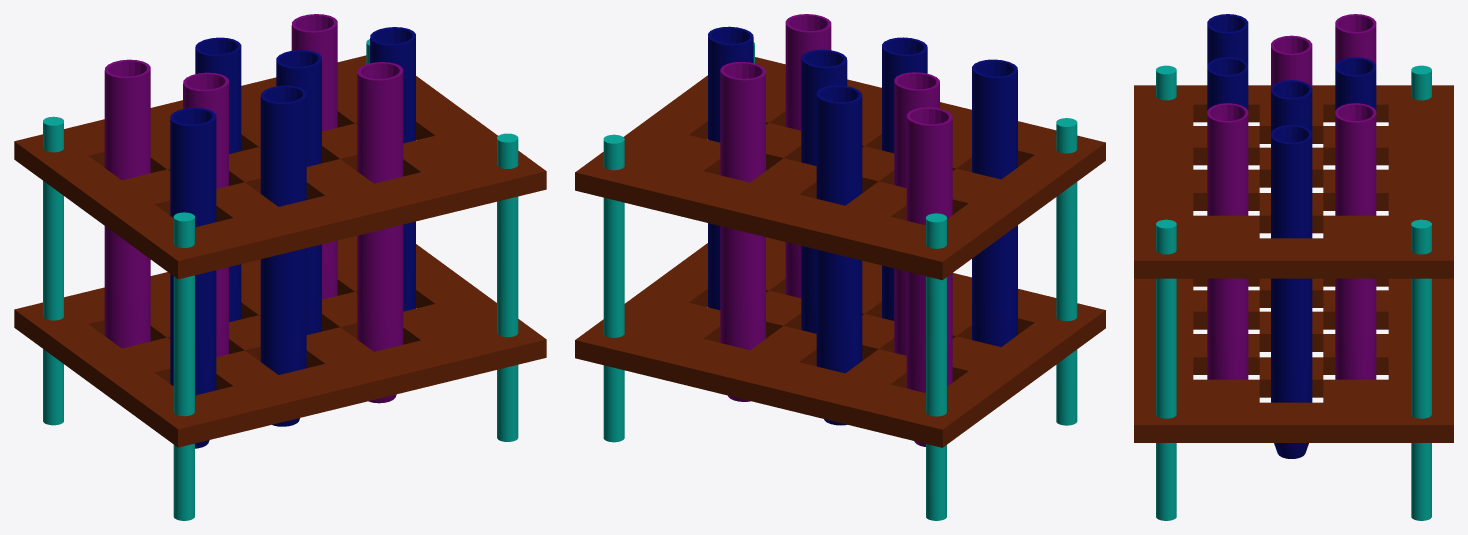
The model's file is pocions.FBX.
3 views of the same model, side by side, from view 1: azimuth 30°, elevation 25°; view 2: azimuth 150°, elevation 25°; view 3: azimuth 270°, elevation 25° (orthographic). The views are drawn at different scales.
Parts seen in each view (by area): view 1: Box010, Cylinder009, Cylinder011, Cylinder018; view 2: Box010, Cylinder009, Cylinder011, Cylinder018; view 3: Box010, Cylinder011, Cylinder009, Cylinder018.
Part boxes in pixels (<box>): Box010: <box>14,55,546,447</box>; Cylinder009: <box>170,27,415,448</box>; Cylinder011: <box>104,14,403,403</box>; Cylinder018: <box>43,39,518,520</box>; Box010: <box>575,57,1105,447</box>; Cylinder009: <box>708,26,1017,425</box>; Cylinder011: <box>720,14,952,446</box>; Cylinder018: <box>603,42,1077,520</box>; Box010: <box>1134,85,1453,442</box>; Cylinder011: <box>1207,14,1376,379</box>; Cylinder009: <box>1207,14,1376,458</box>; Cylinder018: <box>1156,65,1431,520</box>.
Size of the model in its own units: 21.7 by 20.62 by 16.71.
